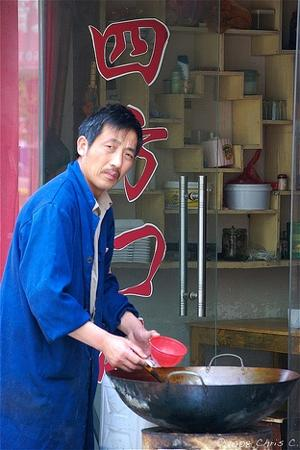person: (2, 107, 163, 450)
